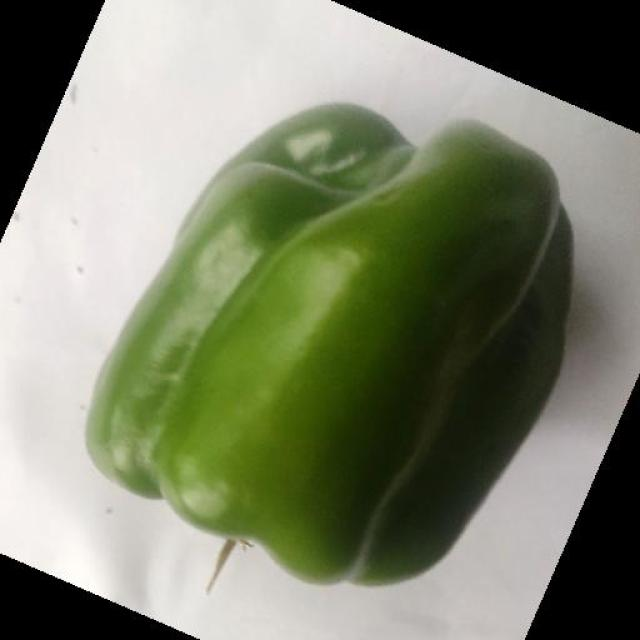Fresh_Capsicum: (165, 81, 520, 576)
